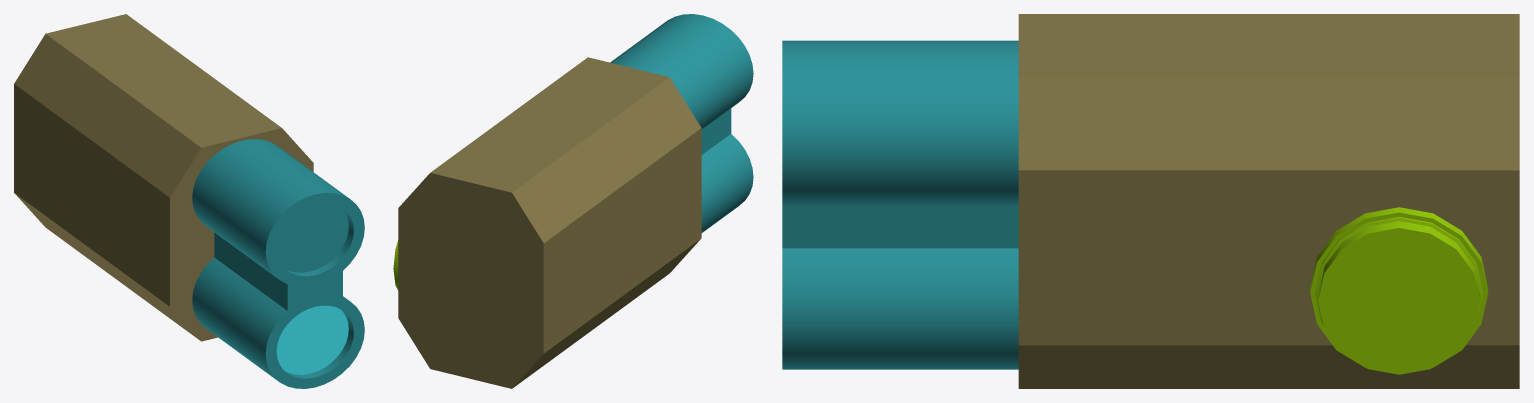
The model's file is Blaster.fbx.
3 renders of one model, left to right at view 1: azimuth 30°, elevation 25°; view 2: azimuth 150°, elevation 25°; view 3: azimuth 270°, elevation 25°, orthographic. The views are drawn at different scales.
Parts seen in each view (by area): view 1: Cylinder.001; view 2: Cylinder.001; view 3: Cylinder.001.
Boxes of the visible parts, x1=… form: Cylinder.001: x1=14, y1=14, x2=364, y2=388; Cylinder.001: x1=393, y1=14, x2=753, y2=388; Cylinder.001: x1=782, y1=14, x2=1519, y2=388.
Bounding box in the file's own units: 61.35 × 71.38 × 152.
